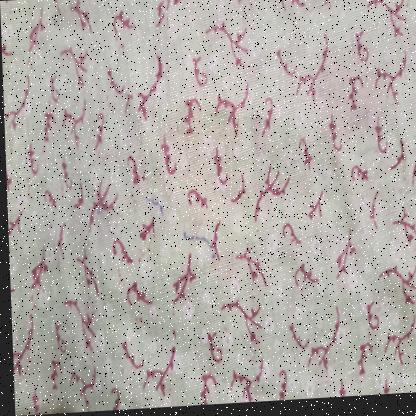spot: (303, 47, 403, 143), (176, 220, 217, 267), (143, 188, 166, 219)
